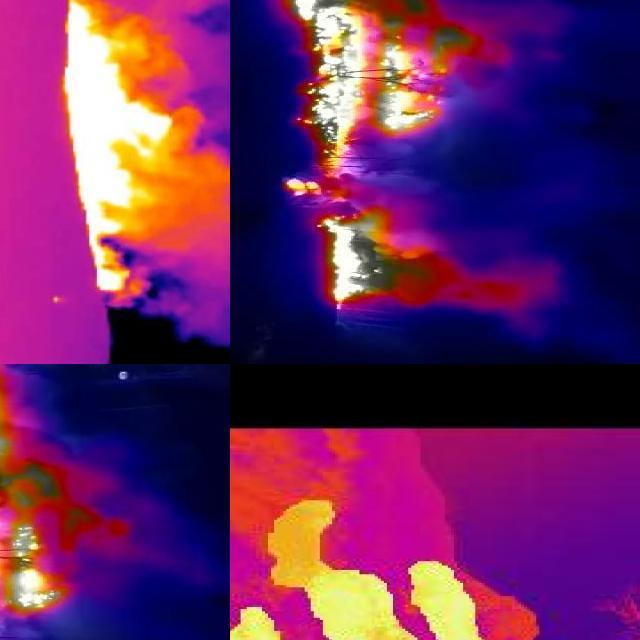fire: (279, 1, 480, 196), (65, 1, 175, 298), (231, 540, 515, 640), (1, 365, 71, 640), (308, 206, 458, 311)
